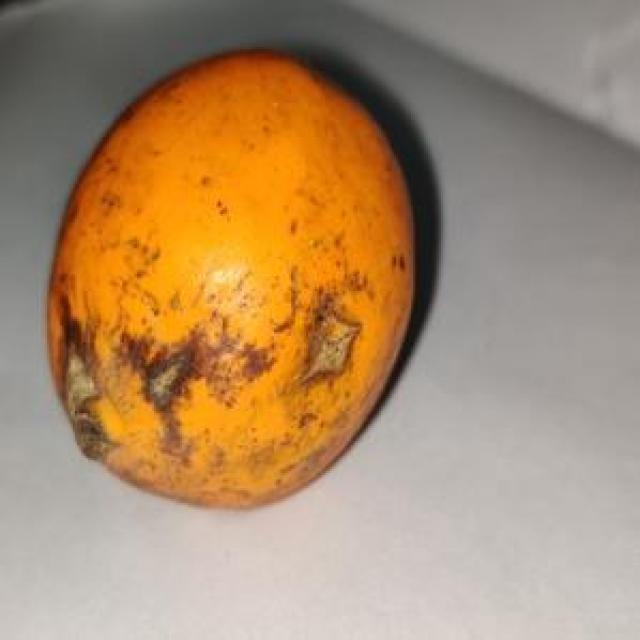good: (47, 47, 417, 514)
